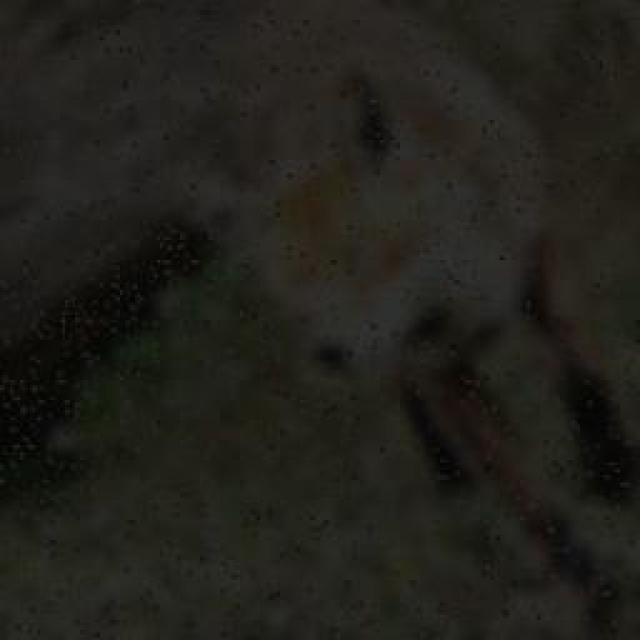Fox: (183, 4, 640, 589)
